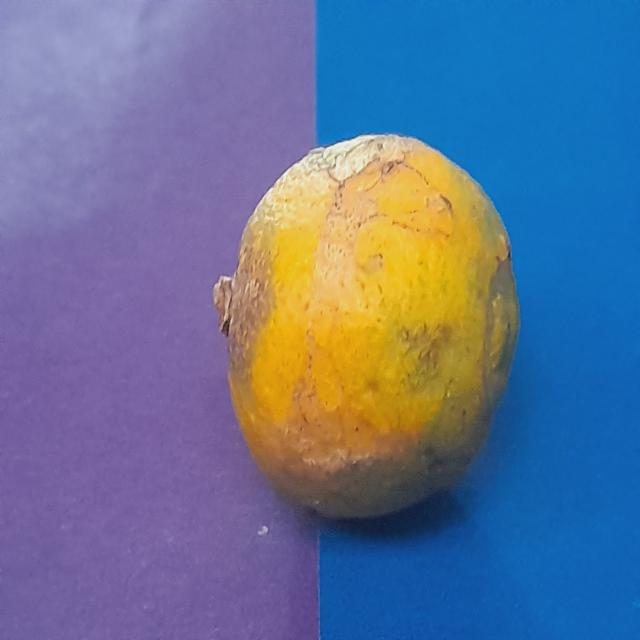thrips: (220, 118, 530, 518)
